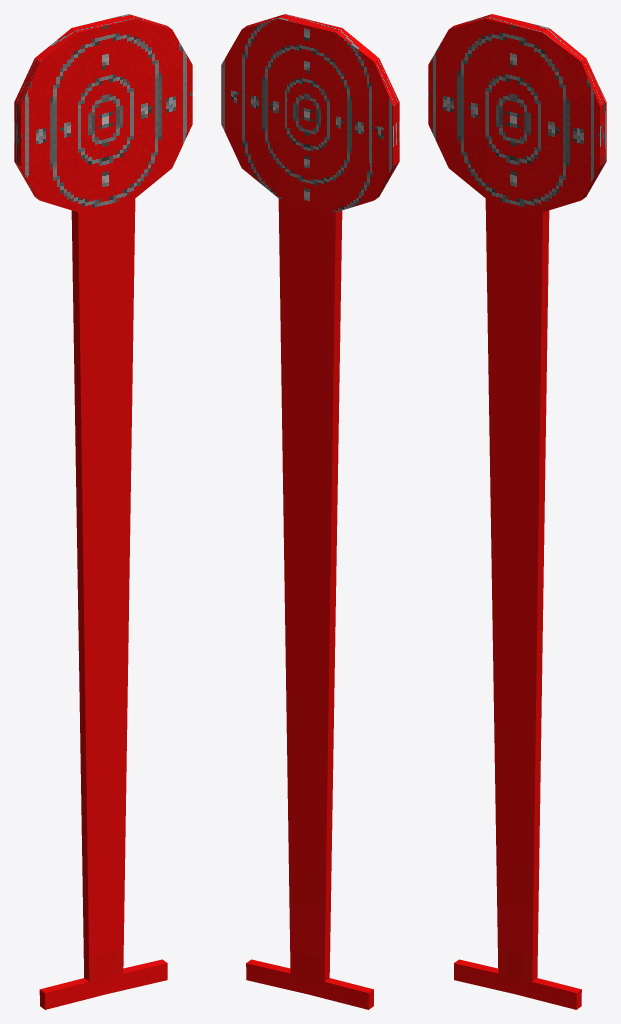
Rendered from target.glb.
The picture shows the model from 3 angles, left to right: view 1: azimuth 30°, elevation 25°; view 2: azimuth 150°, elevation 25°; view 3: azimuth 330°, elevation 25°; orthographic projection.
Parts seen in each view (by area): view 1: target; view 2: target; view 3: target.
Part boxes in pixels (x1,y1,x2,y2): target: (14,14,192,1009); target: (221,14,399,1009); target: (428,14,606,1009).
Bounding box in the file's own units: 1.17 × 6.29 × 0.0766.
1 material, 1 textured.
